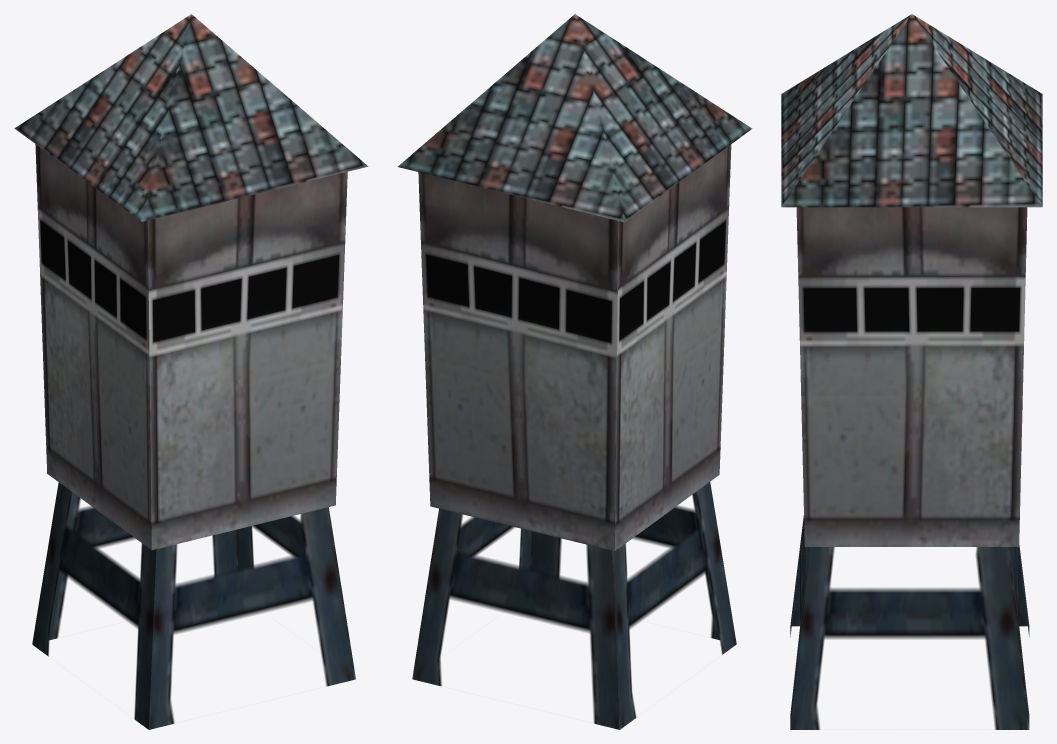
Rendered from Civilian - Infrastructure - Generic Bridge Tower - CBBIn01.glb.
The picture shows the model from 3 angles, left to right: view 1: azimuth 30°, elevation 25°; view 2: azimuth 150°, elevation 25°; view 3: azimuth 270°, elevation 25°; orthographic projection. The views are drawn at different scales.
Parts seen in each view (by area): view 1: CBBIN01; view 2: CBBIN01; view 3: CBBIN01.
Boxes of the visible parts, bbox=[...] form: CBBIN01: bbox=[14, 14, 368, 729]; CBBIN01: bbox=[398, 14, 752, 729]; CBBIN01: bbox=[781, 14, 1042, 729].
Size of the model in its own units: 12.14 by 33.15 by 11.84.
1 material, 1 textured.
